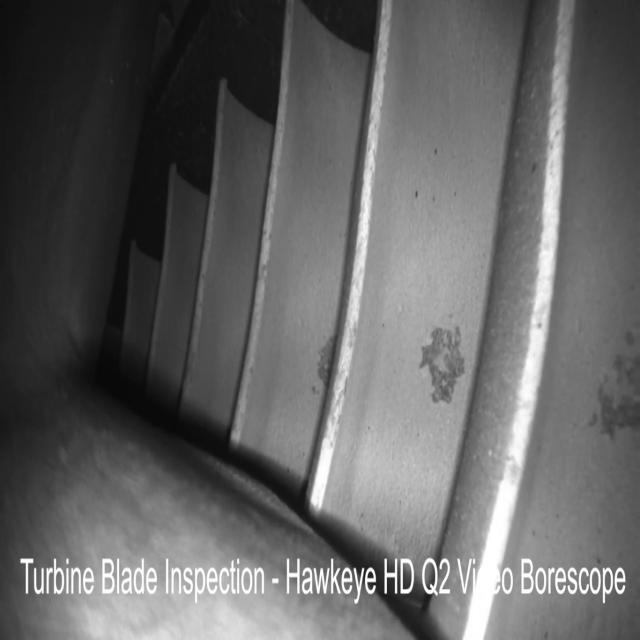burn: (590, 314, 639, 439), (416, 322, 465, 403), (316, 335, 337, 399)
turbine_blade: (318, 0, 532, 551), (497, 0, 640, 556), (236, 0, 371, 492)
